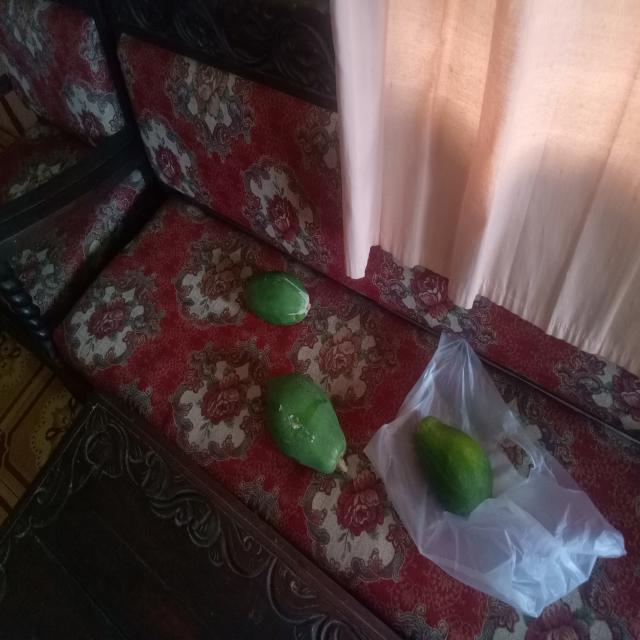Pepaya unrippen: (259, 382, 353, 488), (410, 421, 495, 522), (238, 267, 313, 323)
